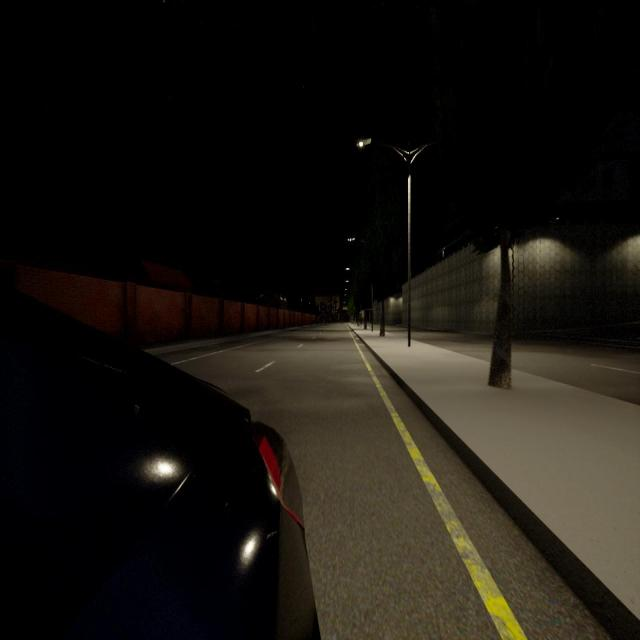Vehicle: (0, 294, 315, 637)
